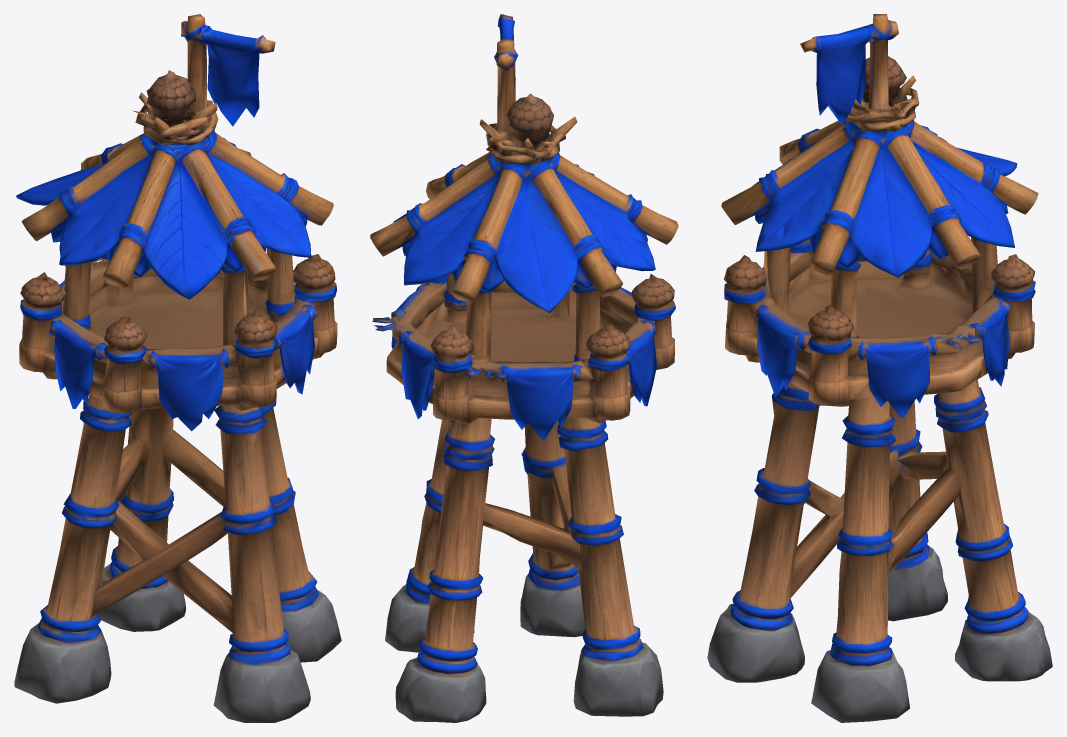
Rendered from source_12.glb.
3 views of the same model, side by side, from view 1: azimuth 30°, elevation 25°; view 2: azimuth 150°, elevation 25°; view 3: azimuth 270°, elevation 25° (orthographic). The views are drawn at different scales.
Parts seen in each view (by area): view 1: tripo_part_0, tripo_part_3, tripo_part_4, tripo_part_1, tripo_part_2, tripo_part_5, tripo_part_14, tripo_part_16, tripo_part_9, tripo_part_7, tripo_part_15, tripo_part_8 (+2 smaller); view 2: tripo_part_0, tripo_part_2, tripo_part_4, tripo_part_1, tripo_part_3, tripo_part_5, tripo_part_17, tripo_part_7, tripo_part_6, tripo_part_9, tripo_part_10, tripo_part_12 (+4 smaller); view 3: tripo_part_0, tripo_part_2, tripo_part_3, tripo_part_1, tripo_part_5, tripo_part_14, tripo_part_4, tripo_part_18, tripo_part_8, tripo_part_6, tripo_part_19, tripo_part_12 (+3 smaller).
Part boxes in pixels (x1,y1,x2,y2): tripo_part_0: (16, 86, 333, 345); tripo_part_3: (90, 405, 310, 722); tripo_part_4: (14, 394, 141, 703); tripo_part_1: (43, 259, 320, 410); tripo_part_2: (98, 408, 225, 631); tripo_part_5: (223, 401, 341, 662); tripo_part_14: (181, 14, 275, 126); tripo_part_16: (143, 344, 235, 431); tripo_part_9: (92, 317, 151, 414); tripo_part_7: (19, 272, 65, 372); tripo_part_15: (49, 320, 107, 408); tripo_part_8: (293, 254, 337, 357); tripo_part_0: (370, 116, 678, 360); tripo_part_2: (395, 418, 581, 722); tripo_part_4: (557, 417, 663, 716); tripo_part_1: (386, 281, 637, 423); tripo_part_3: (520, 420, 585, 637); tripo_part_5: (385, 420, 474, 652); tripo_part_17: (471, 360, 593, 441); tripo_part_7: (567, 324, 630, 422); tripo_part_6: (430, 324, 491, 421); tripo_part_9: (631, 274, 675, 369); tripo_part_10: (443, 215, 504, 303); tripo_part_12: (394, 329, 435, 419); tripo_part_0: (721, 75, 1017, 337); tripo_part_2: (888, 379, 1052, 681); tripo_part_3: (707, 383, 919, 682); tripo_part_1: (724, 237, 1015, 406); tripo_part_5: (811, 398, 909, 722); tripo_part_14: (800, 14, 898, 124); tripo_part_4: (888, 401, 947, 621); tripo_part_18: (848, 336, 936, 418); tripo_part_8: (808, 304, 868, 405); tripo_part_6: (990, 254, 1035, 352); tripo_part_19: (754, 304, 811, 397); tripo_part_12: (959, 298, 1010, 386).
Size of the model in its own units: 0.4652 by 0.9755 by 0.4718.
1 material, 1 textured.
